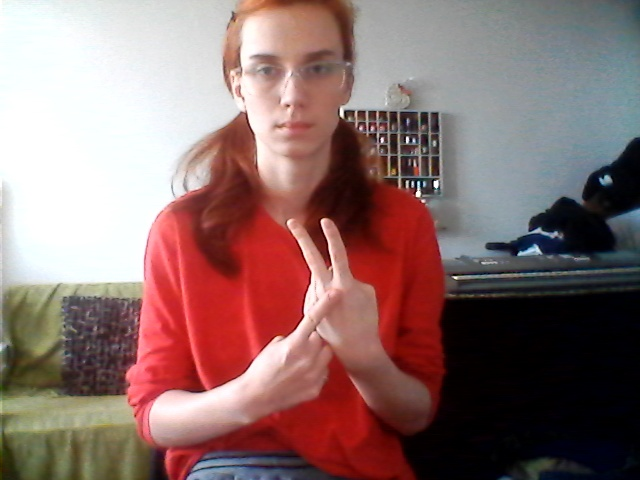y: (257, 216, 389, 431)
